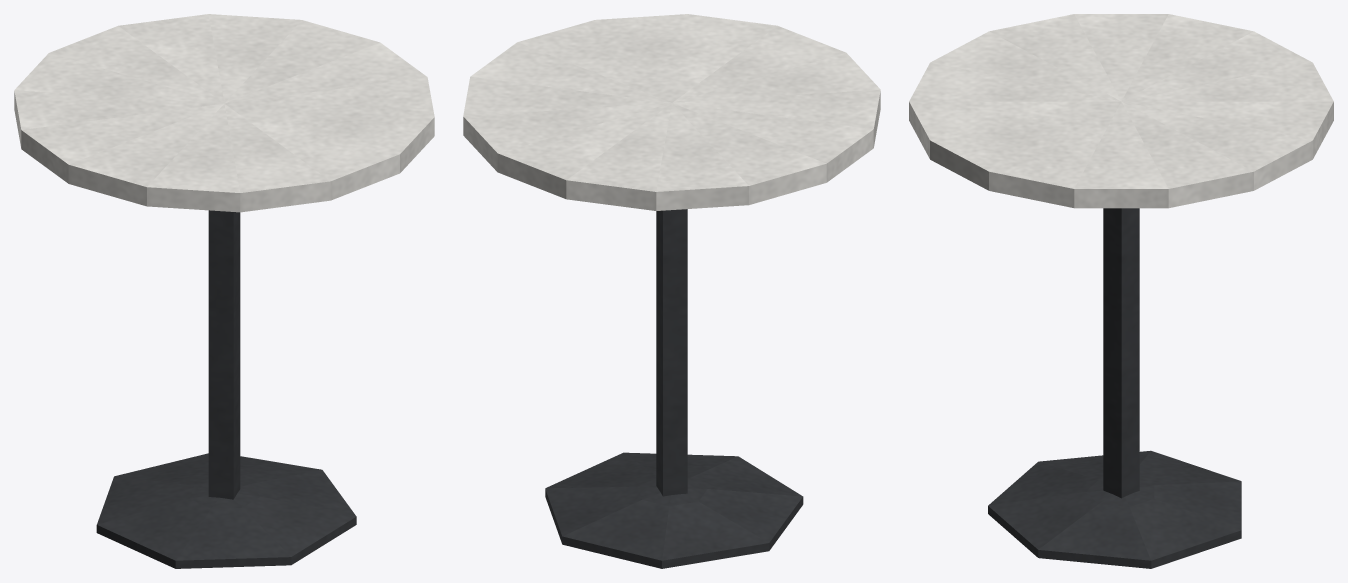
File: SM_Morin_Tavolino_LOD1.fbx
3 views of the same model, side by side, from view 1: azimuth 30°, elevation 25°; view 2: azimuth 150°, elevation 25°; view 3: azimuth 270°, elevation 25° (orthographic).
Visible parts, largest first — view 1: SM_Morin_Tavolino_LOD1; view 2: SM_Morin_Tavolino_LOD1; view 3: SM_Morin_Tavolino_LOD1.
Part boxes in pixels (bbox=[...]): SM_Morin_Tavolino_LOD1: bbox=[14, 14, 434, 568]; SM_Morin_Tavolino_LOD1: bbox=[463, 14, 880, 568]; SM_Morin_Tavolino_LOD1: bbox=[909, 14, 1333, 568].
Size of the model in its own units: 68.24 by 70 by 75.
1 material, 1 textured.
